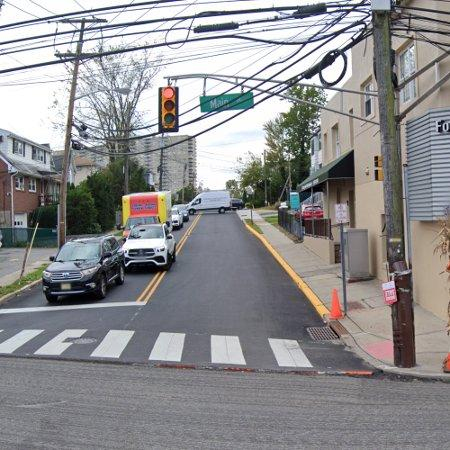crosswalks: (0, 329, 316, 368)
